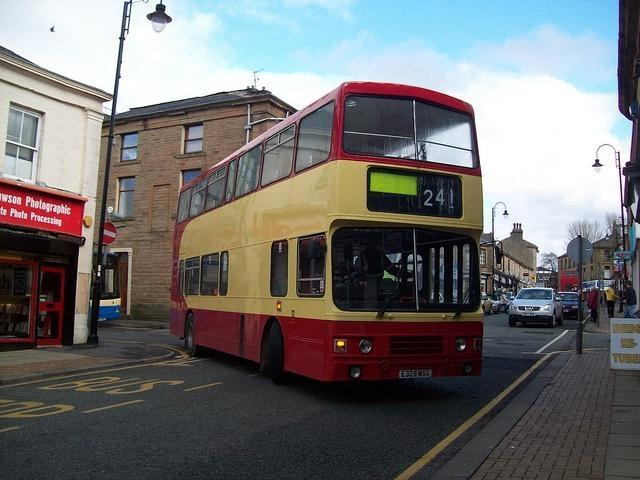bus: (170, 81, 486, 383)
car: (508, 288, 564, 329), (558, 291, 584, 319), (98, 292, 121, 322), (482, 292, 492, 316), (488, 298, 501, 314)
